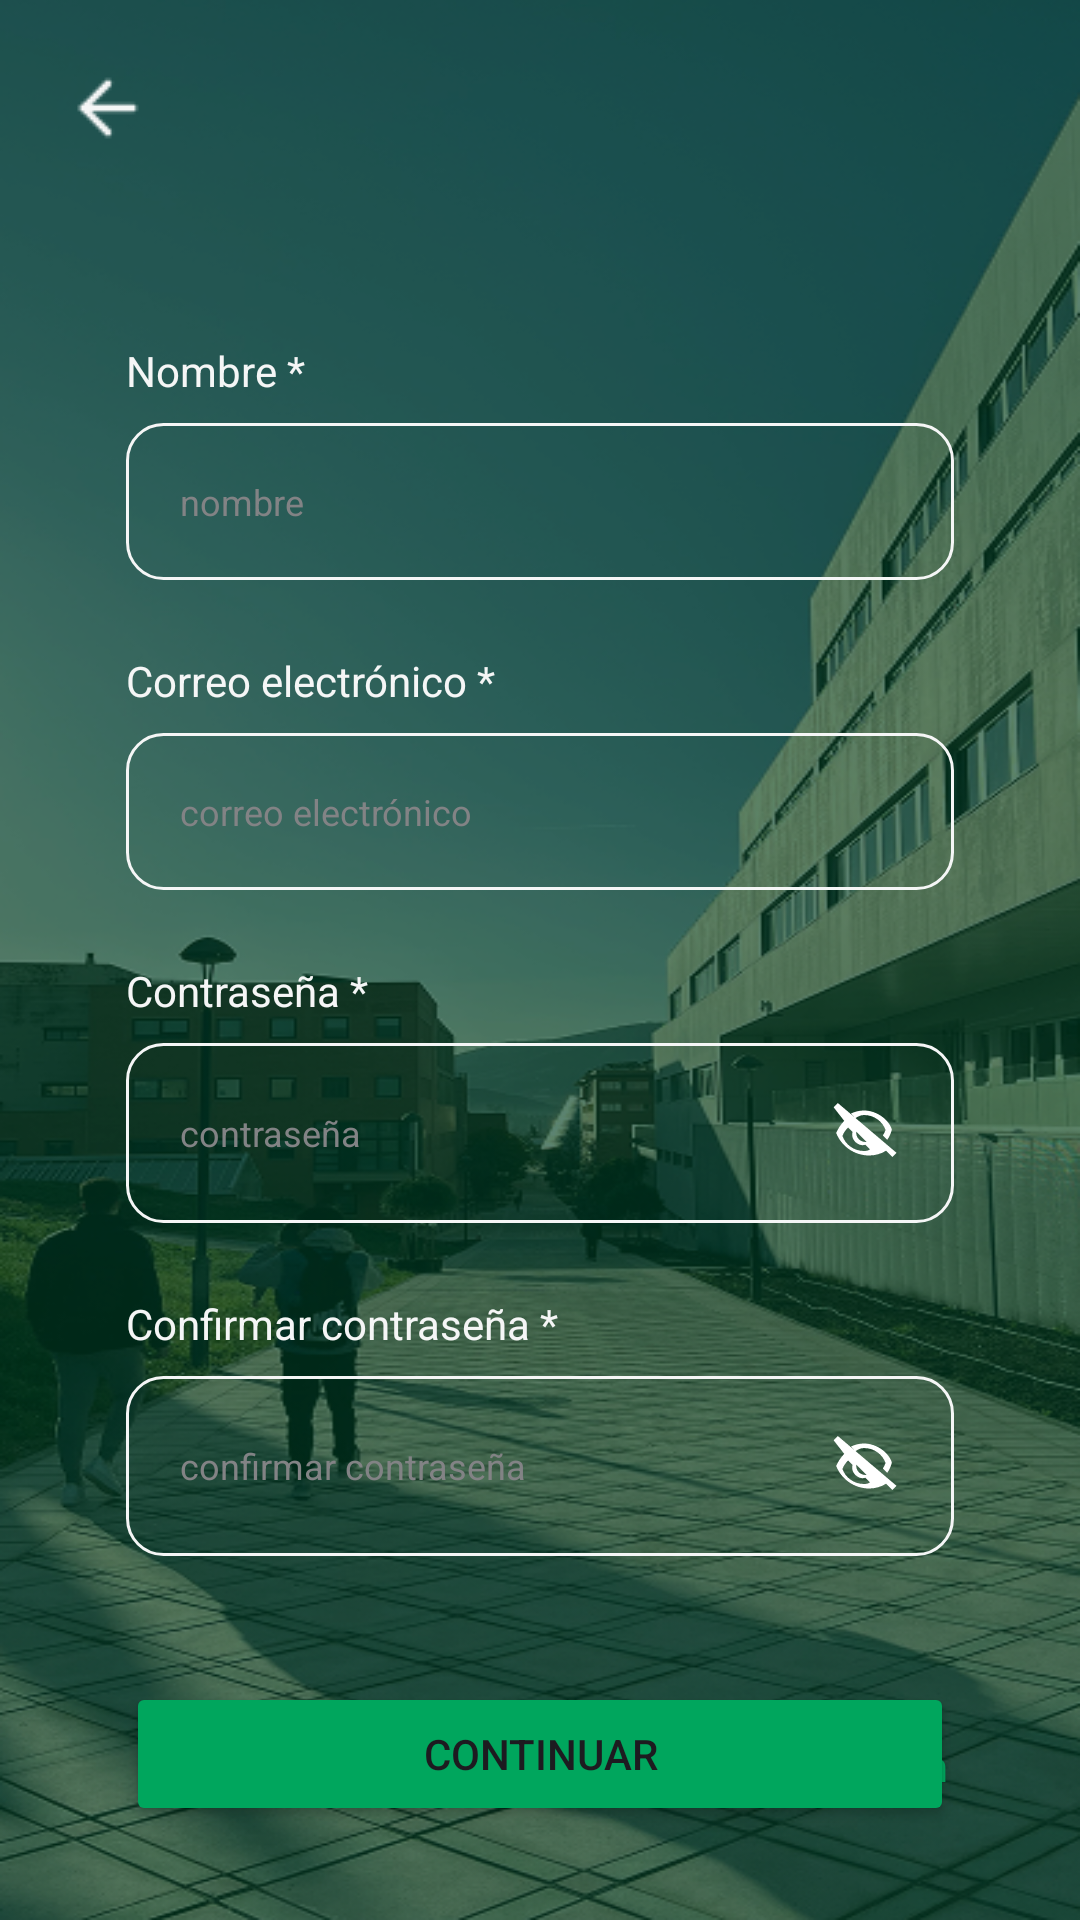

Icons on this 1080 x 1920 Android screen, each with the point to tap as (x=x, y=y):
arrow left: (x=107, y=108)
